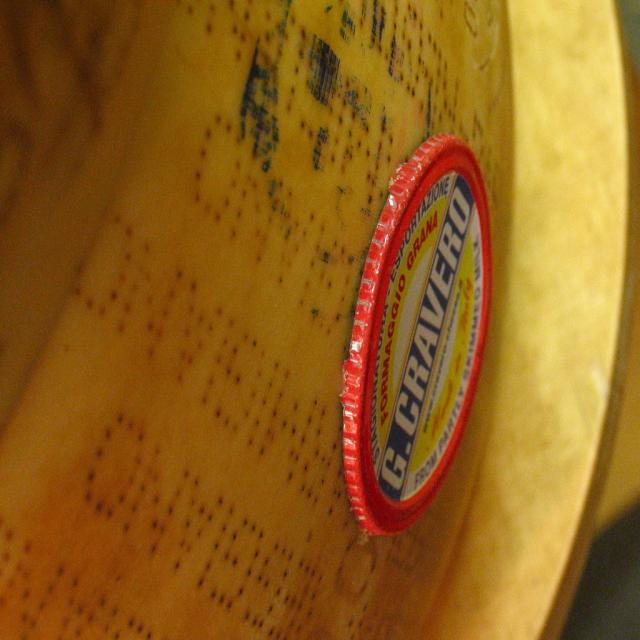Cheese: (0, 0, 500, 639)
